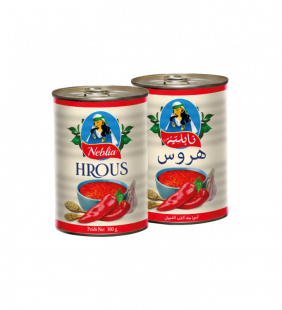Promotion: (47, 67, 234, 243)
